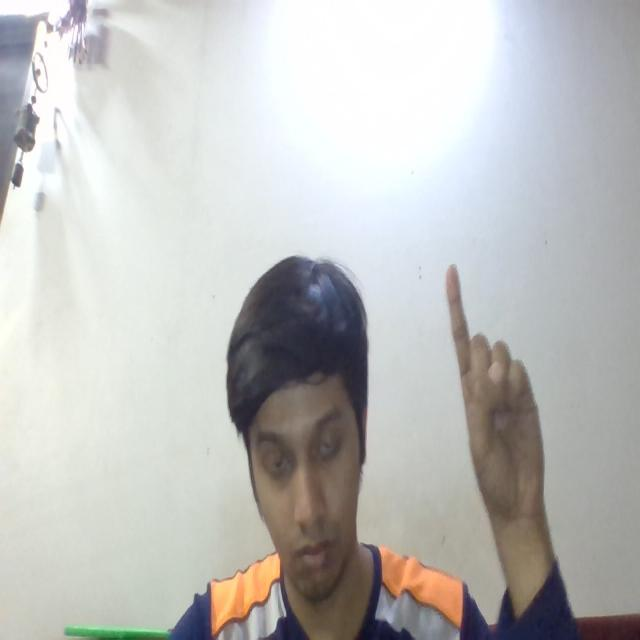Z: (436, 261, 554, 511)
